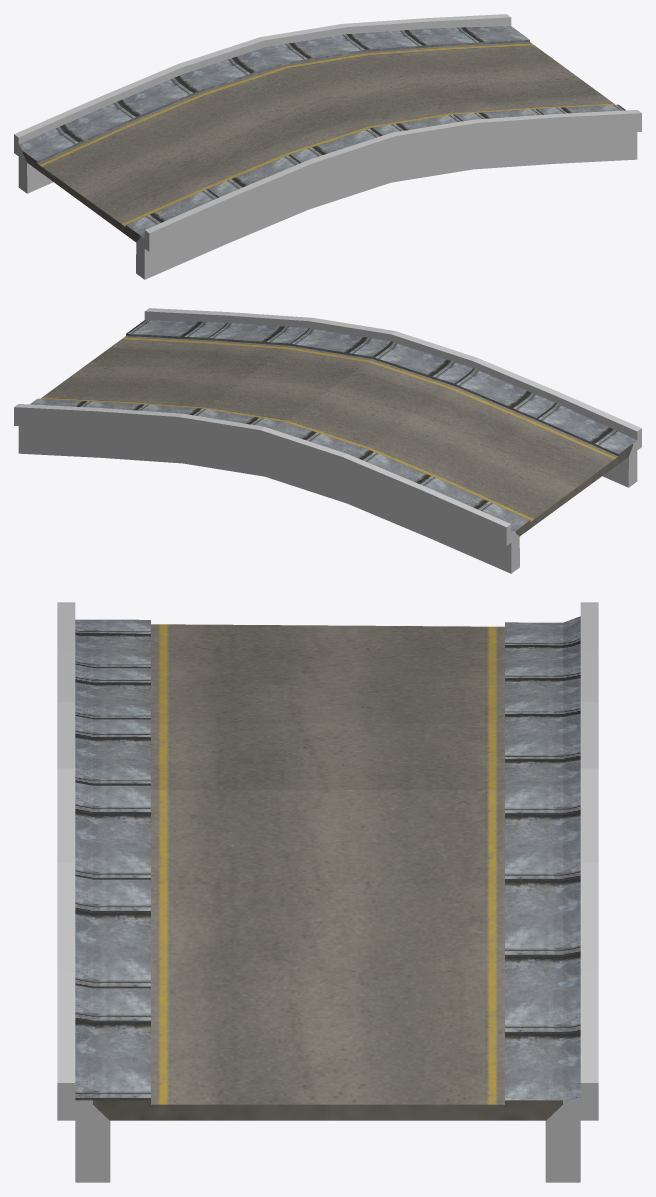
File: Urban_Road2SmallBridge_Model.fbx
3 views of the same model, one above another, from view 1: azimuth 30°, elevation 25°; view 2: azimuth 150°, elevation 25°; view 3: azimuth 270°, elevation 25° (orthographic). The views are drawn at different scales.
Visible parts, largest first — view 1: Urban_Road2SmallBridge_Mesh; view 2: Urban_Road2SmallBridge_Mesh; view 3: Urban_Road2SmallBridge_Mesh.
Boxes of the visible parts, x1,y1,x2,y2 form: Urban_Road2SmallBridge_Mesh: (14, 14, 641, 279); Urban_Road2SmallBridge_Mesh: (14, 308, 641, 573); Urban_Road2SmallBridge_Mesh: (57, 602, 598, 1182).
Bounding box in the file's own units: 36 × 6.07 × 17.13.
